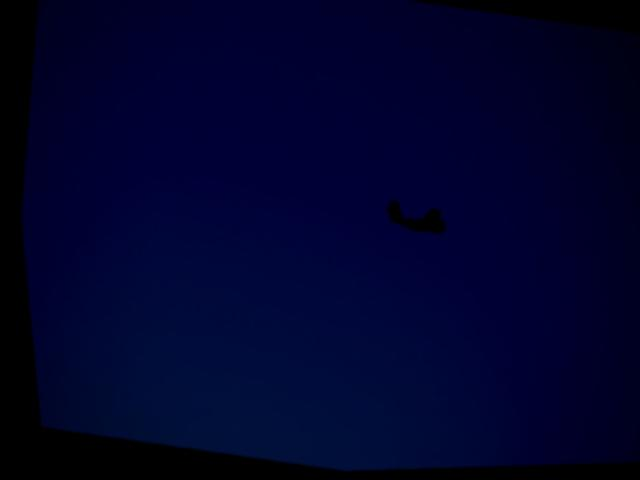plane: (377, 202, 445, 241)
